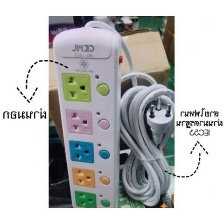three_eye_plug: (50, 19, 129, 213)
